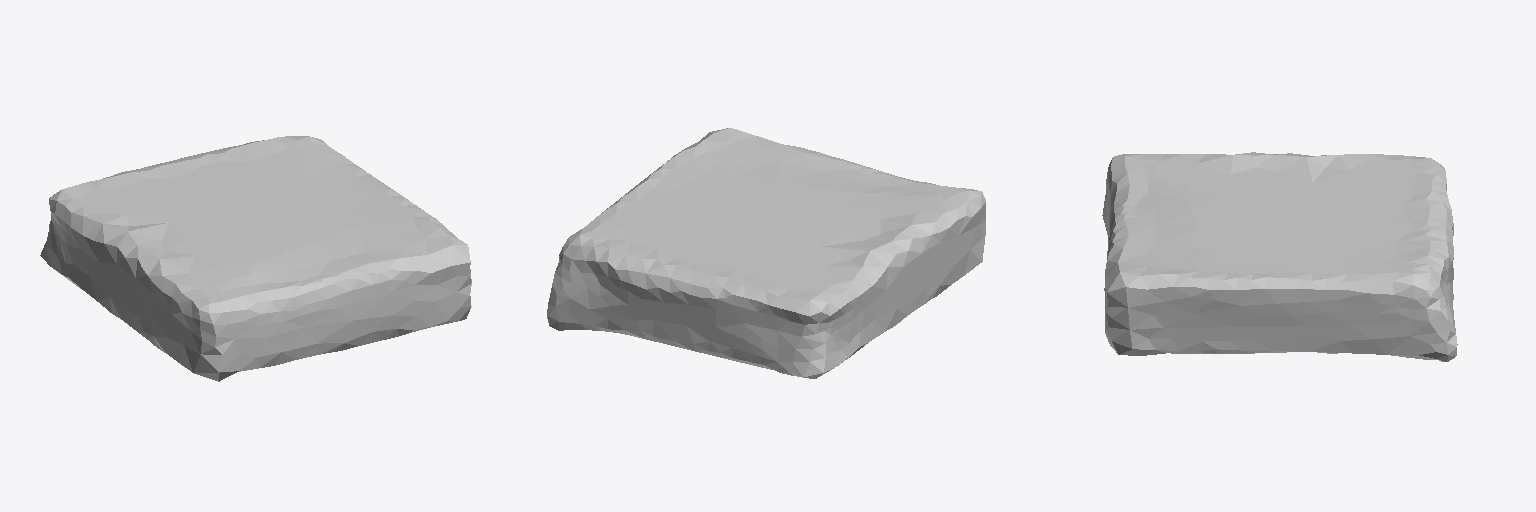
The model's file is plataforma_2.obj.
The picture shows the model from 3 angles: view 1: azimuth 30°, elevation 25°; view 2: azimuth 150°, elevation 25°; view 3: azimuth 270°, elevation 25°; orthographic projection.
Parts seen in each view (by area): view 1: StonePlatform_A_Stone_A; view 2: StonePlatform_A_Stone_A; view 3: StonePlatform_A_Stone_A.
Boxes of the visible parts, <box> form: StonePlatform_A_Stone_A: <box>40,136,471,381</box>; StonePlatform_A_Stone_A: <box>547,128,985,378</box>; StonePlatform_A_Stone_A: <box>1102,152,1457,361</box>.
Bounding box in the file's own units: 2.05 × 0.6026 × 2.26.